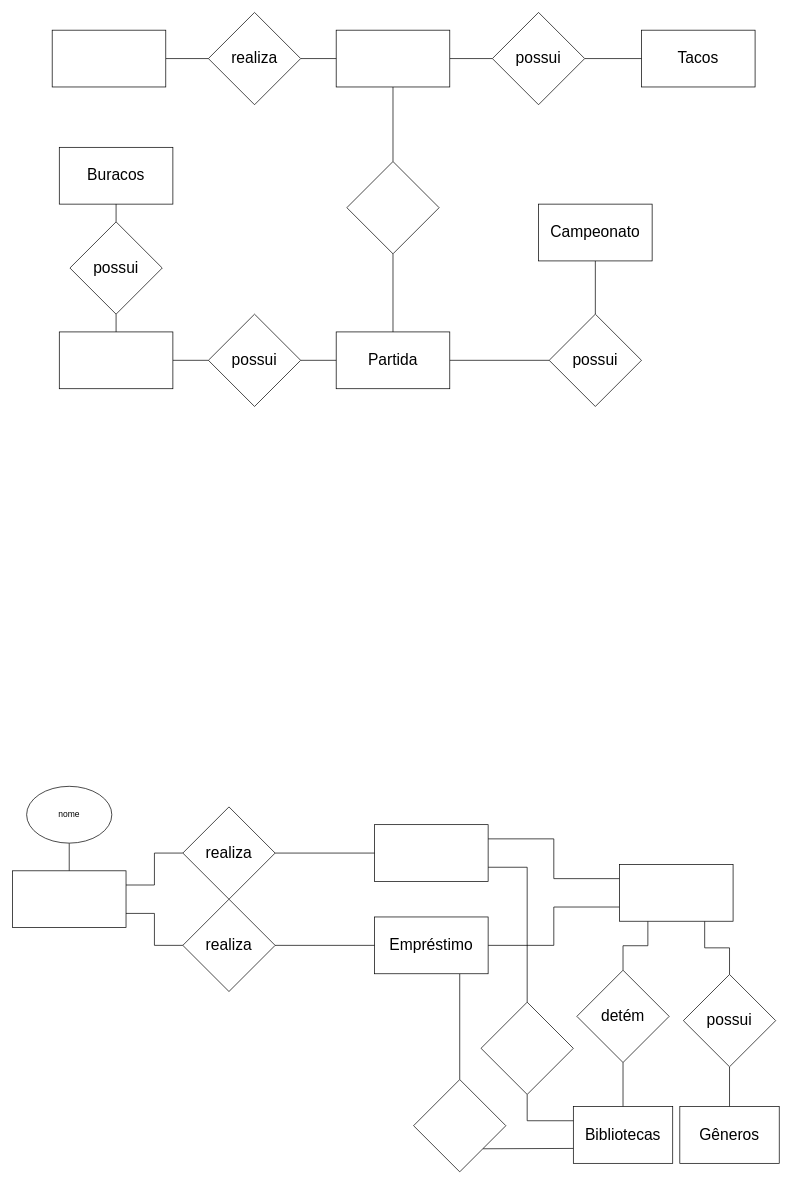
Image size: 792x1184. Some labels were removed from this diagram. The shapes that lost their labels are listed below. From the top down, each one's centre as x and y in pixels, then its label:
point 108,58: Tacadas
point 392,58: Jogadores
point 392,207: participa (de)
point 116,360: Campos
point 431,852: Compra
point 69,899: Usuários
point 676,892: Livros
point 526,1047: é comprado
point 459,1125: é emprestado
